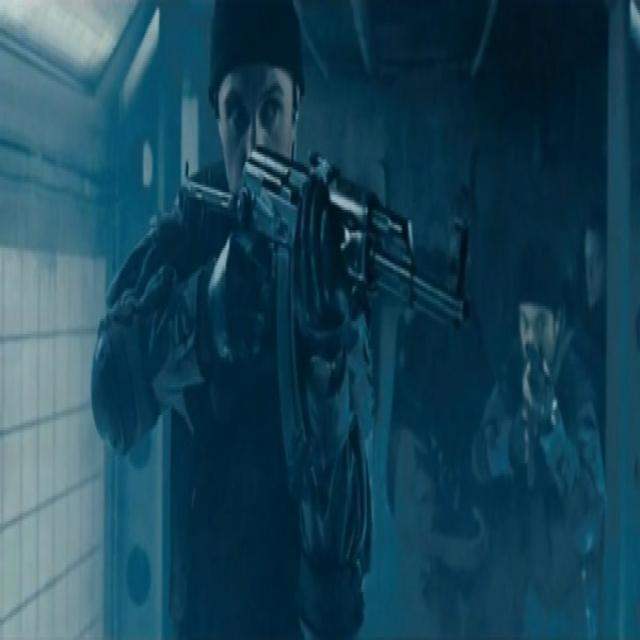rifle: (173, 132, 482, 513)
